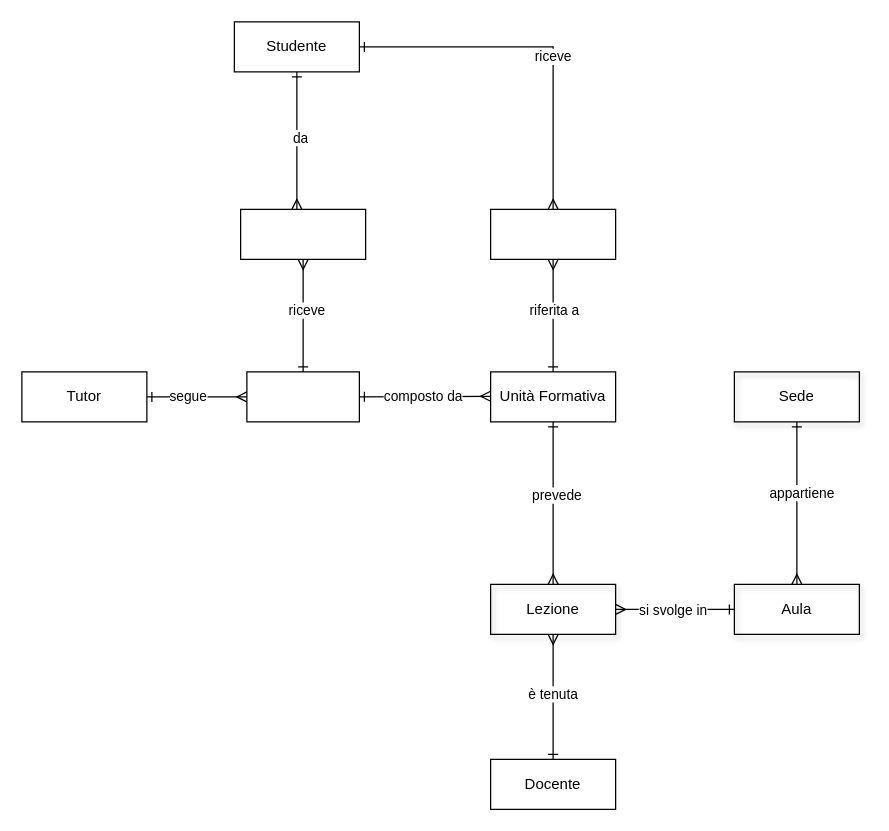
Some shapes in this 889 by 831 pixel diagram are drawn without their labels. The centre of each missing label's shape, as x and y in pixels:
Corso: the point at 302,396
Iscrizione: the point at 302,233
Valutazione: the point at 552,233
